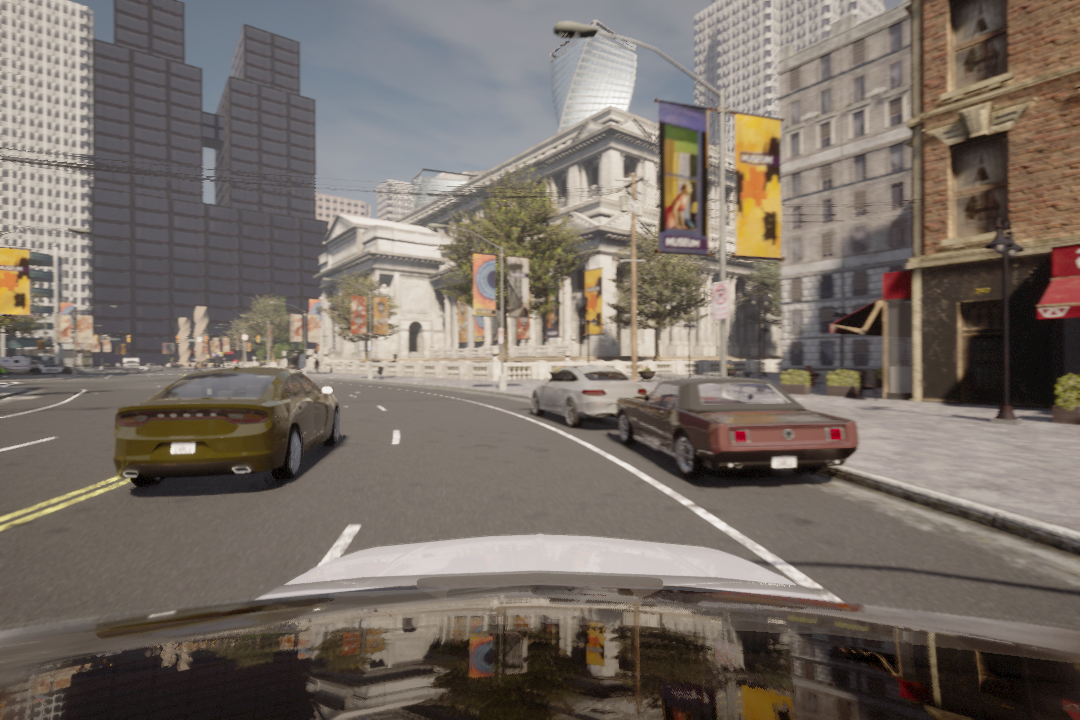TrafficSign_nstop: (712, 282, 732, 317)
